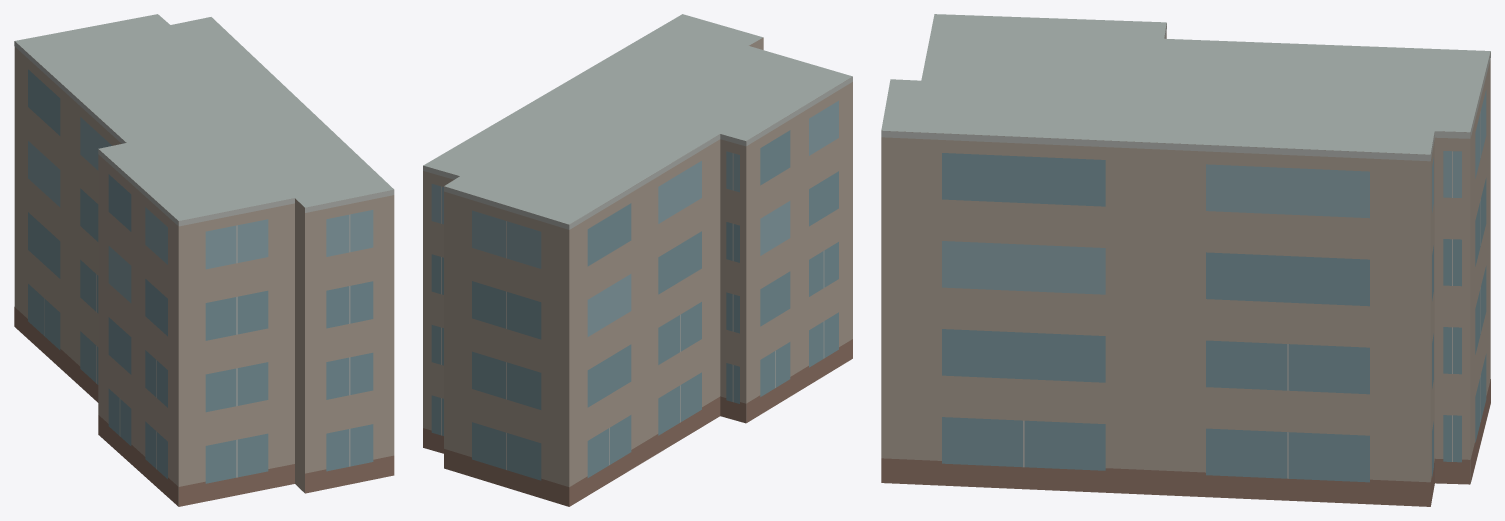
Rendered from survey-upis-32757478.glb.
3 views of the same model, side by side, from view 1: azimuth 30°, elevation 25°; view 2: azimuth 150°, elevation 25°; view 3: azimuth 270°, elevation 25° (orthographic). The views are drawn at different scales.
Visible parts, largest first — view 1: survey-upis-32757478.tmp; view 2: survey-upis-32757478.tmp; view 3: survey-upis-32757478.tmp.
Boxes of the visible parts, x1=… form: survey-upis-32757478.tmp: x1=14, y1=14, x2=394, y2=506; survey-upis-32757478.tmp: x1=423, y1=14, x2=852, y2=506; survey-upis-32757478.tmp: x1=881, y1=14, x2=1490, y2=506.
Bounding box in the file's own units: 11.15 × 13 × 20.4.
